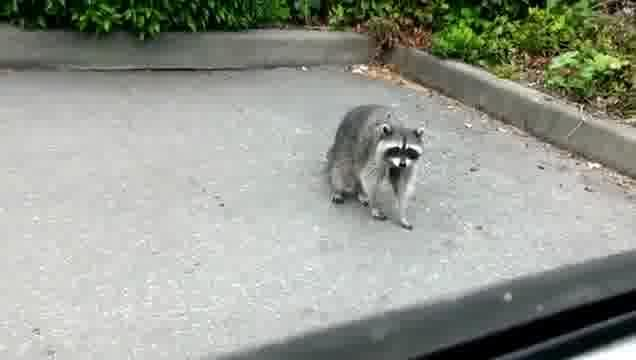raccoon: (322, 100, 425, 233)
